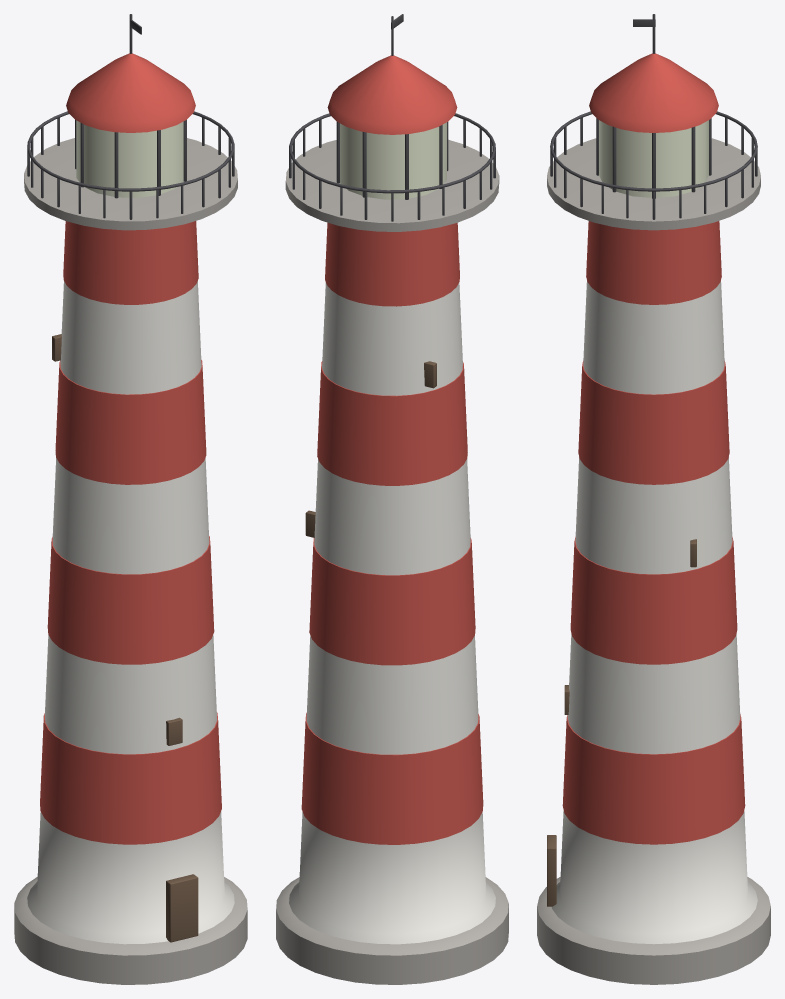
The model's file is lighthouse.glb.
3 renders of one model, left to right at view 1: azimuth 30°, elevation 25°; view 2: azimuth 150°, elevation 25°; view 3: azimuth 270°, elevation 25°, orthographic.
Visible parts, largest first — view 1: tower, band1, band3, band5, plinth, band7, gallery, cap, lantern, door, railtop; view 2: tower, band1, band3, band5, plinth, band7, gallery, cap, lantern, railtop; view 3: tower, band1, band3, band5, plinth, band7, gallery, cap, lantern, railtop, door.
Part boxes in pixels (box(x1,y1,x2,y2)): tower: box(27, 281, 234, 944); band1: box(40, 712, 221, 844); band3: box(47, 536, 214, 664); band5: box(55, 360, 206, 484); plinth: box(14, 877, 247, 984); band7: box(63, 221, 198, 304); gallery: box(24, 138, 237, 230); cap: box(66, 53, 195, 132); lantern: box(76, 120, 183, 197); door: box(166, 874, 198, 942); railtop: box(27, 111, 234, 191); tower: box(289, 282, 495, 944); band1: box(301, 712, 483, 844); band3: box(309, 538, 475, 665); band5: box(317, 361, 467, 485); plinth: box(276, 877, 508, 984); band7: box(325, 222, 459, 306); gallery: box(285, 139, 499, 231); cap: box(327, 55, 457, 134); lantern: box(340, 122, 446, 199); railtop: box(289, 113, 495, 193); tower: box(551, 281, 757, 944); band1: box(562, 714, 745, 844); band3: box(570, 537, 737, 664); band5: box(578, 361, 729, 484); plinth: box(537, 877, 770, 984); band7: box(586, 221, 721, 304); gallery: box(547, 138, 760, 230); cap: box(589, 53, 718, 132); lantern: box(599, 120, 708, 197); railtop: box(550, 111, 757, 191); door: box(547, 835, 556, 906).
Bounding box in the file's own units: 7.2 × 31.3 × 7.2.
